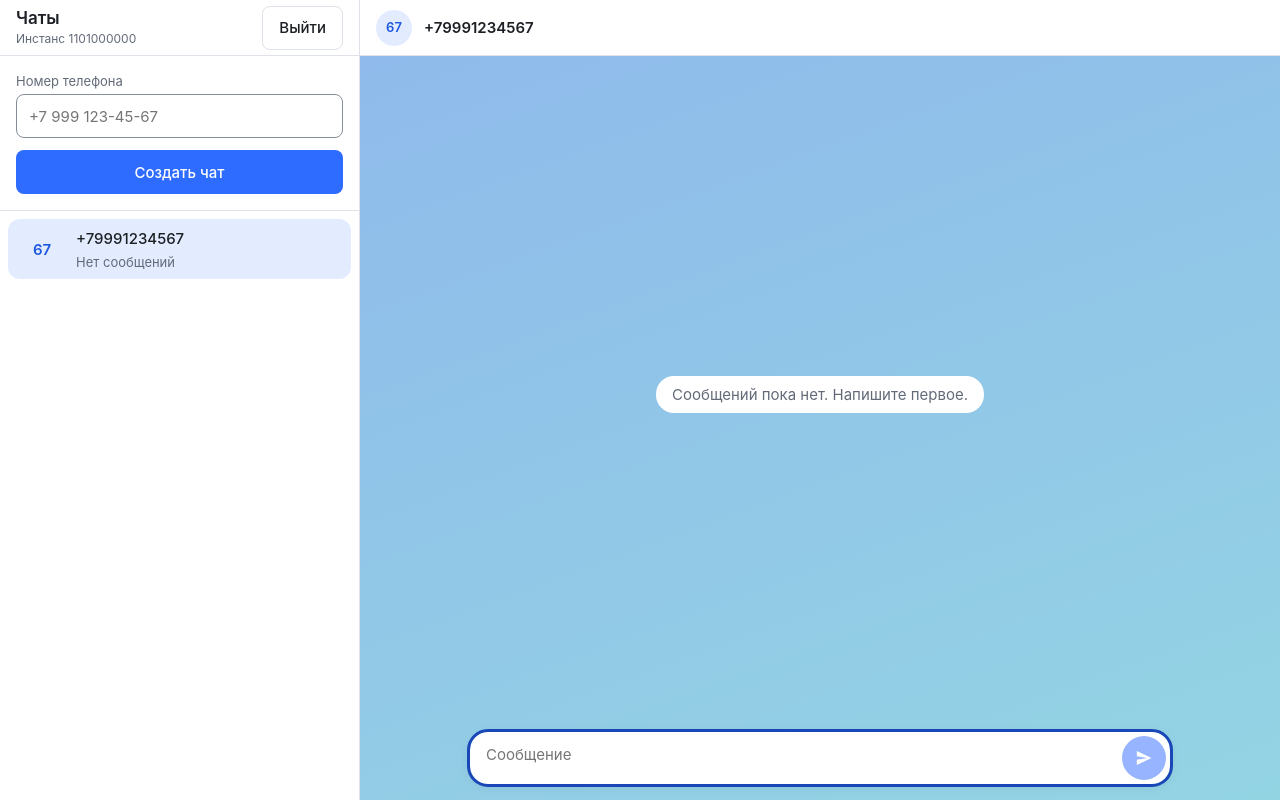
Test: App › «Выйти» стирает и чаты: после повторного входа список пуст
Expected: the button "67 +79991234567 Нет сообщений" is shown, 8,219 -> 351,279
Click the button "Выйти".
click(303, 28)  # box 262,6 -> 343,50
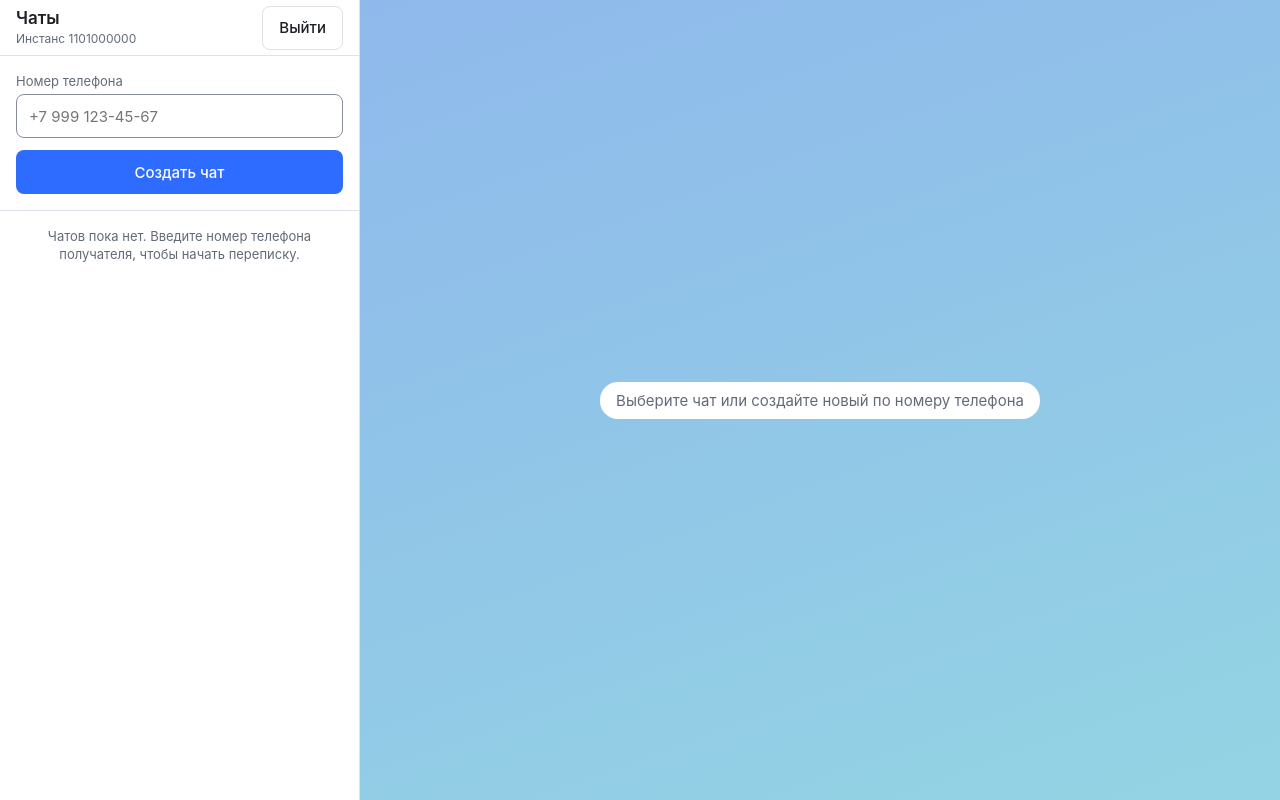
Expected: the text "Чатов пока нет" is shown, 48,228 -> 311,262
